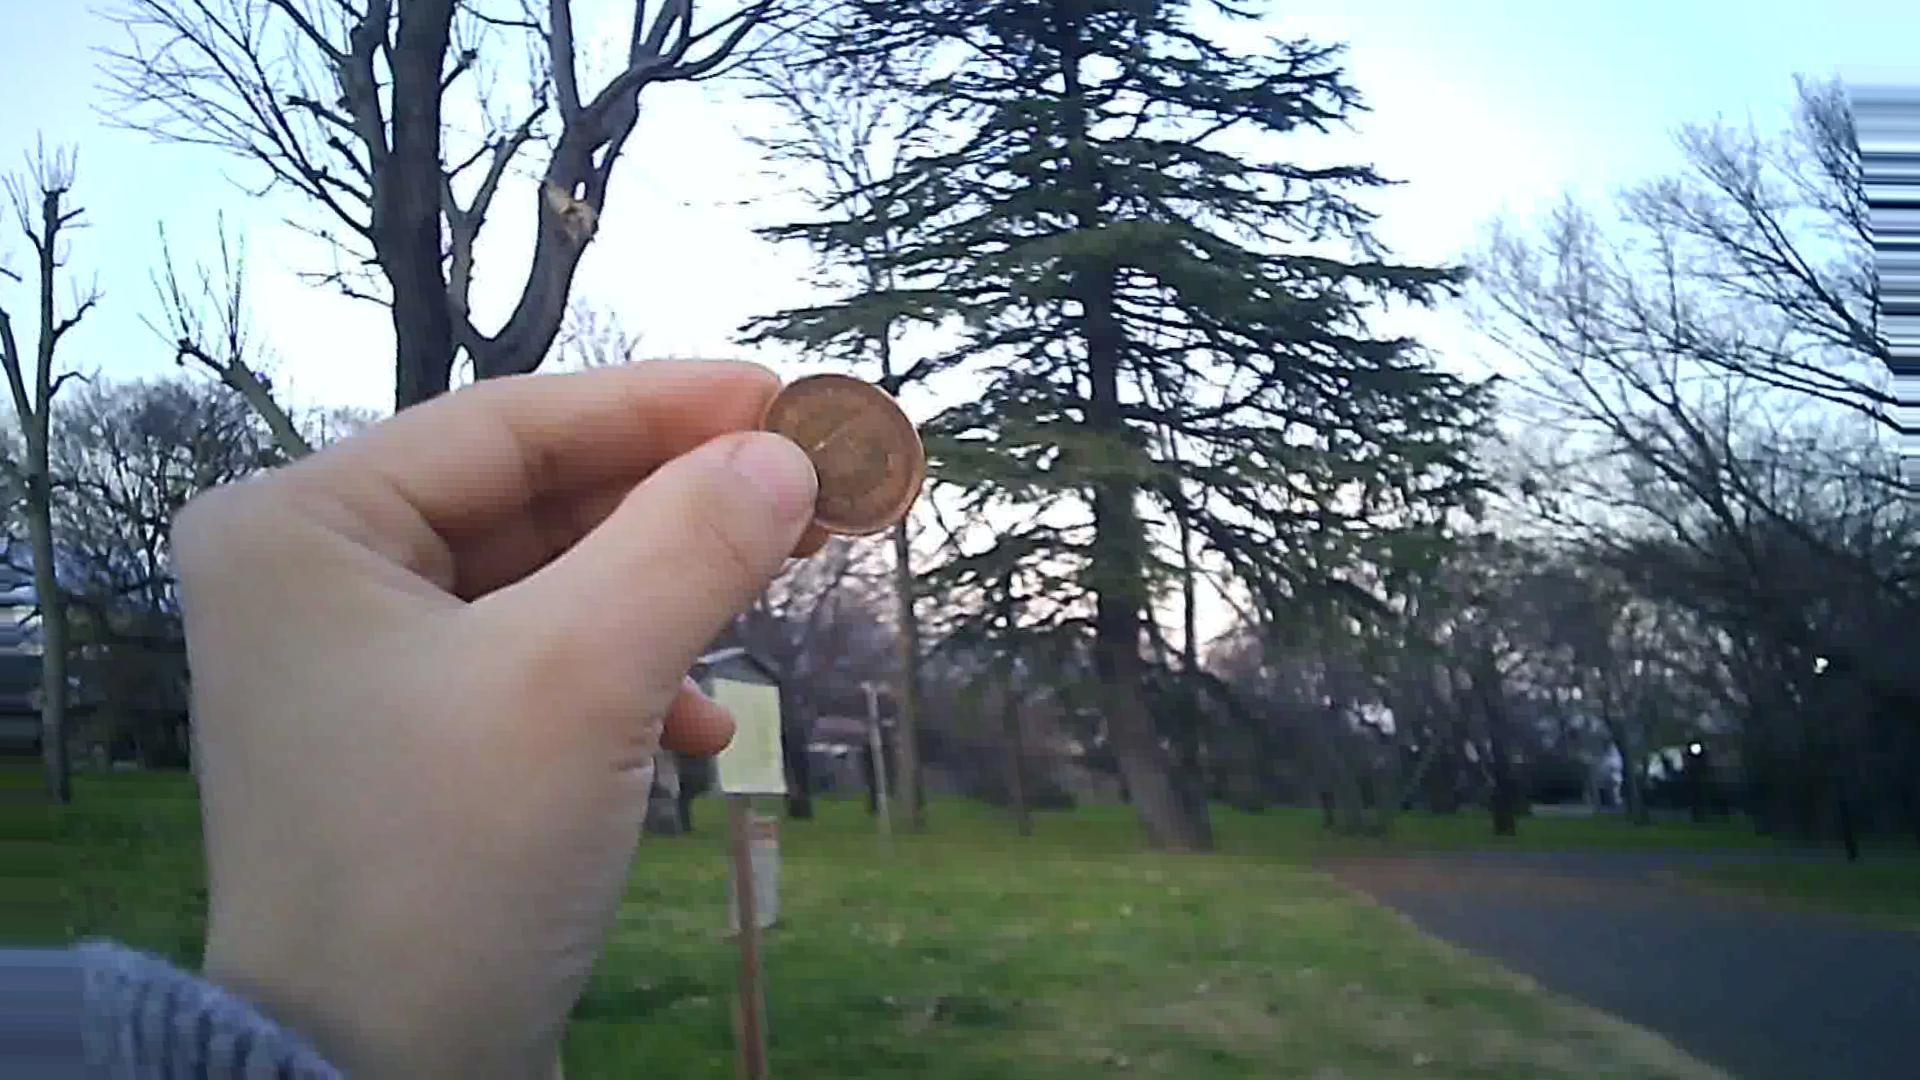10 Yen: (742, 355, 949, 531)
